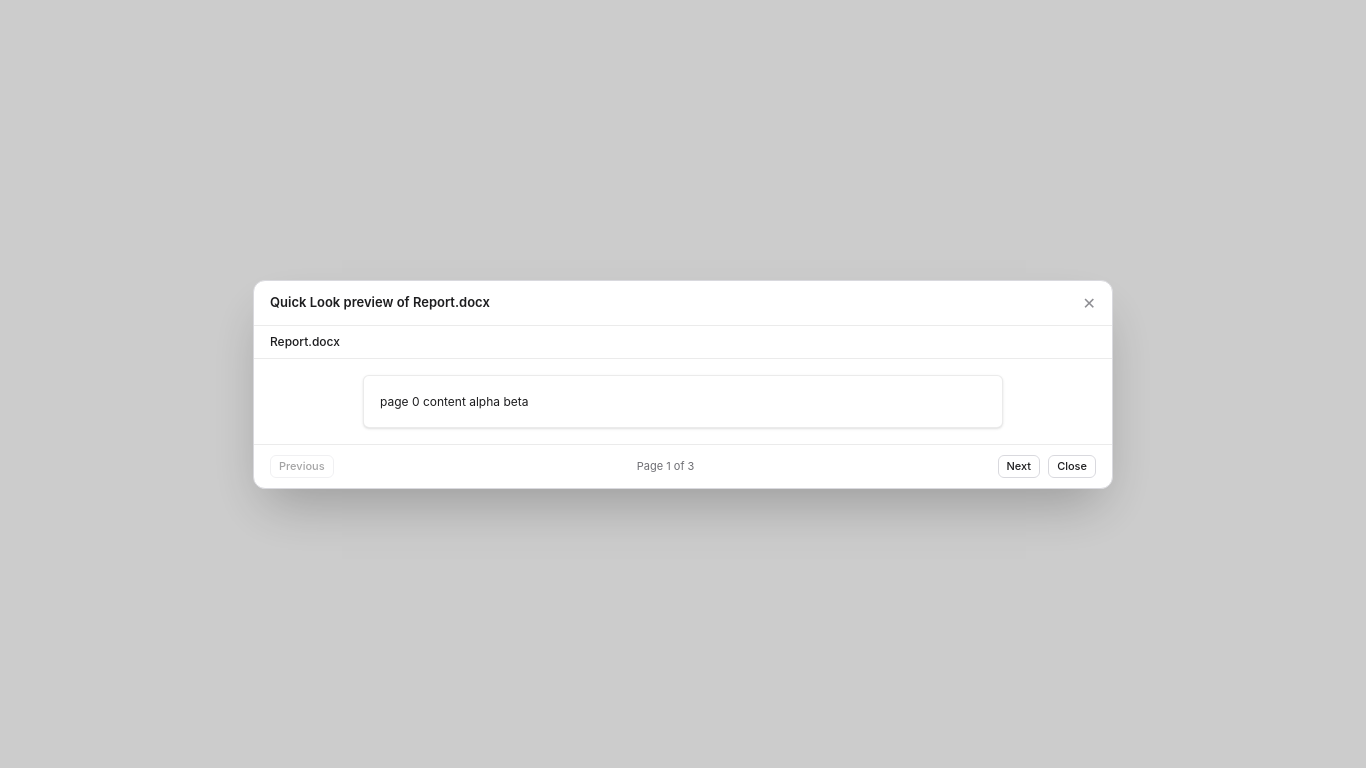
Scenario: QuickLook › lazily loads only the visible page, then the next page on navigation
This screenshot has width=1366, height=768.
expect the element with test id "quick-look-page-0" is shown: met, box x1=363 y1=374 x2=1003 y2=428
Click the button with test id "quick-look-next" at coordinates (1019, 466), box x1=998 y1=455 x2=1040 y2=478
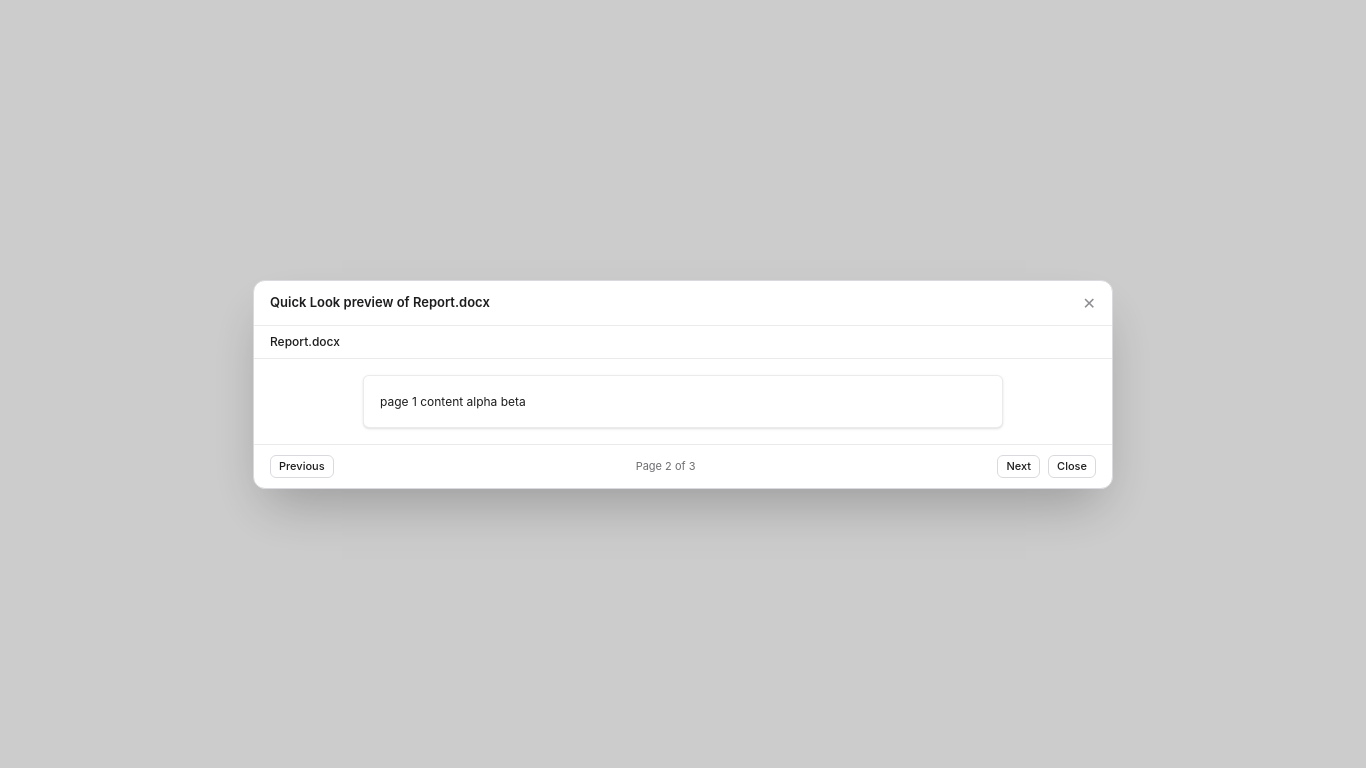
expect the element with test id "quick-look-page-1" is shown: met, box x1=363 y1=374 x2=1003 y2=428
